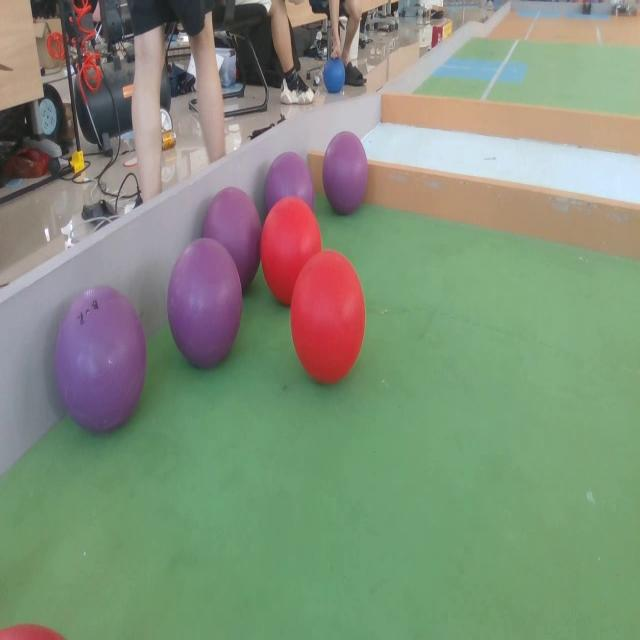invalid: (57, 286, 147, 440), (166, 237, 244, 371), (206, 184, 263, 294), (260, 143, 316, 224), (322, 132, 369, 209)
red: (289, 251, 366, 383), (261, 196, 323, 306)
